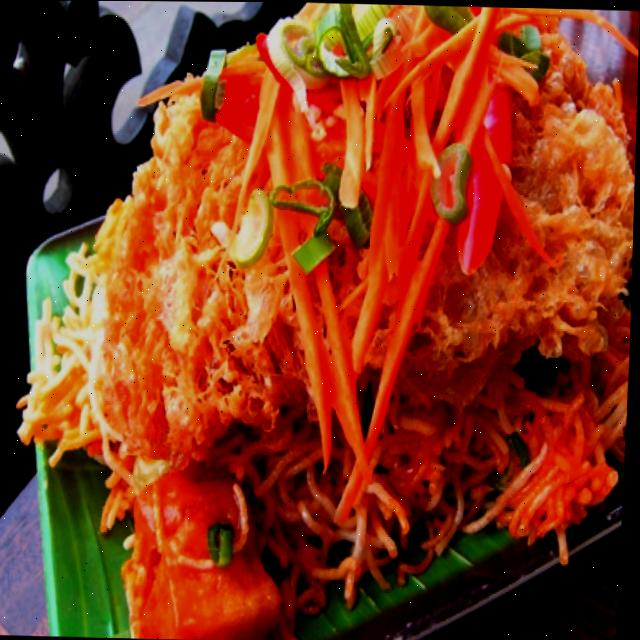面条主食: (23, 9, 635, 617)
